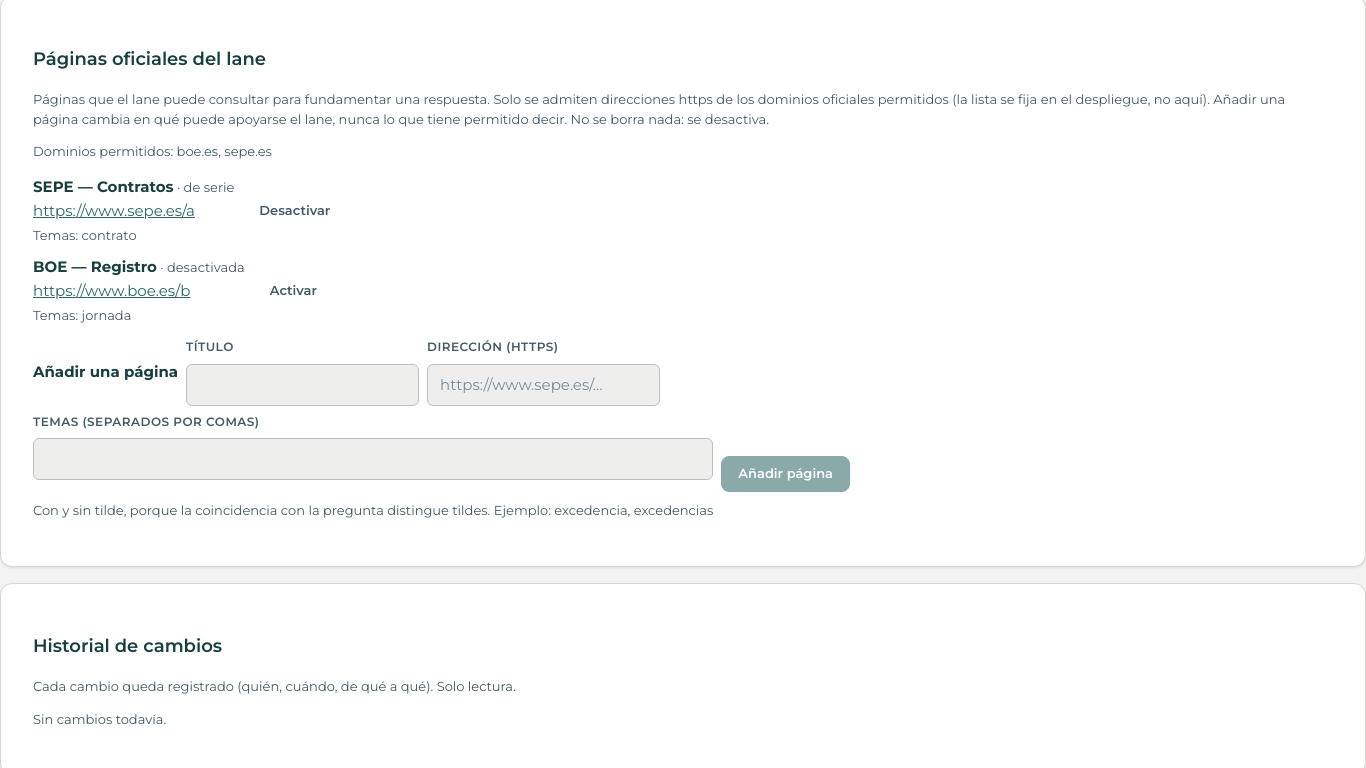
Scenario: Guardarraíles — catalogue card and model-knowledge toggle › shows the server rejection (an off-allowlist host) instead of swallowing it
The width and height of the screenshot is (1366, 768).
(page scrolled)
Expected: the text "SEPE — Contratos" is shown, [33,177,174,196]
In the field labelled "Título": x=303, y=385 [186,364,419,406], type "Otra"
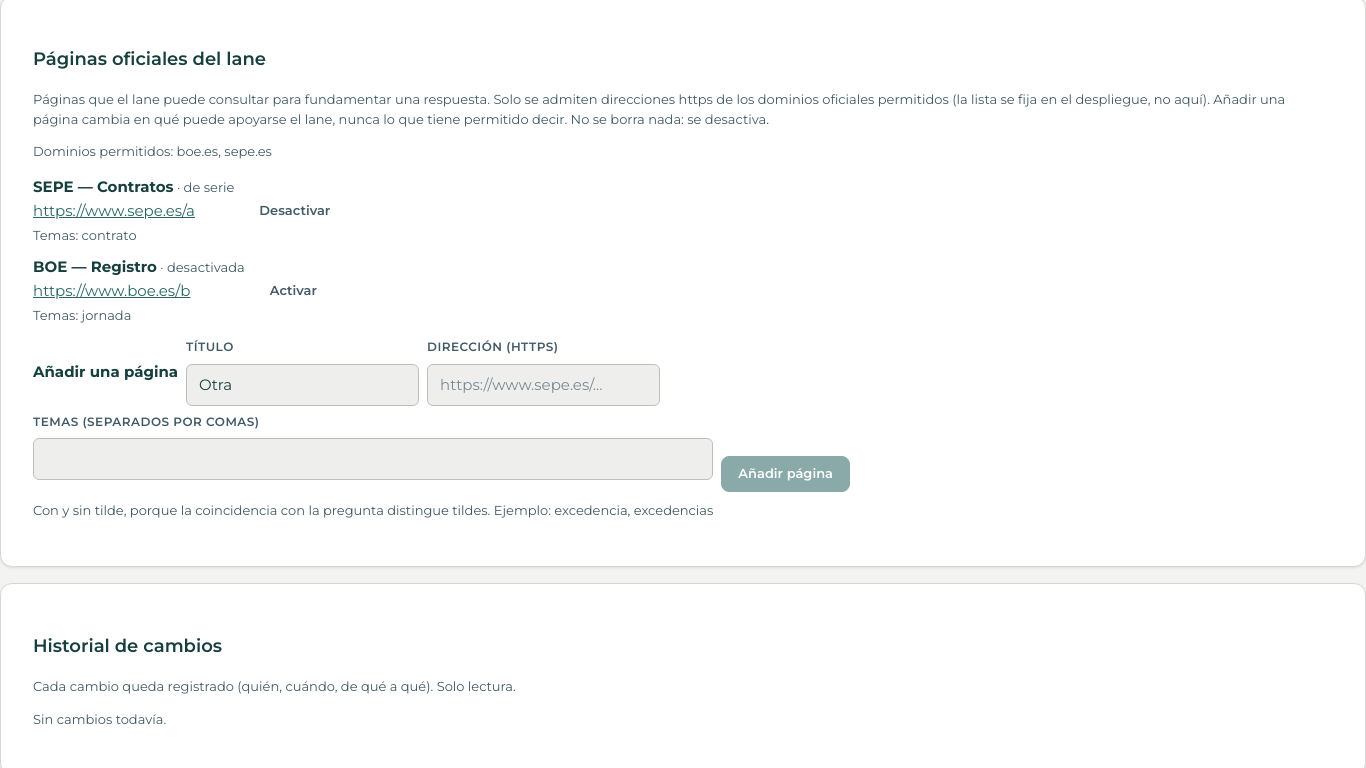
In the field labelled "Dirección (https)": x=544, y=385 [427,364,660,406], type "https://www.example.com/x"
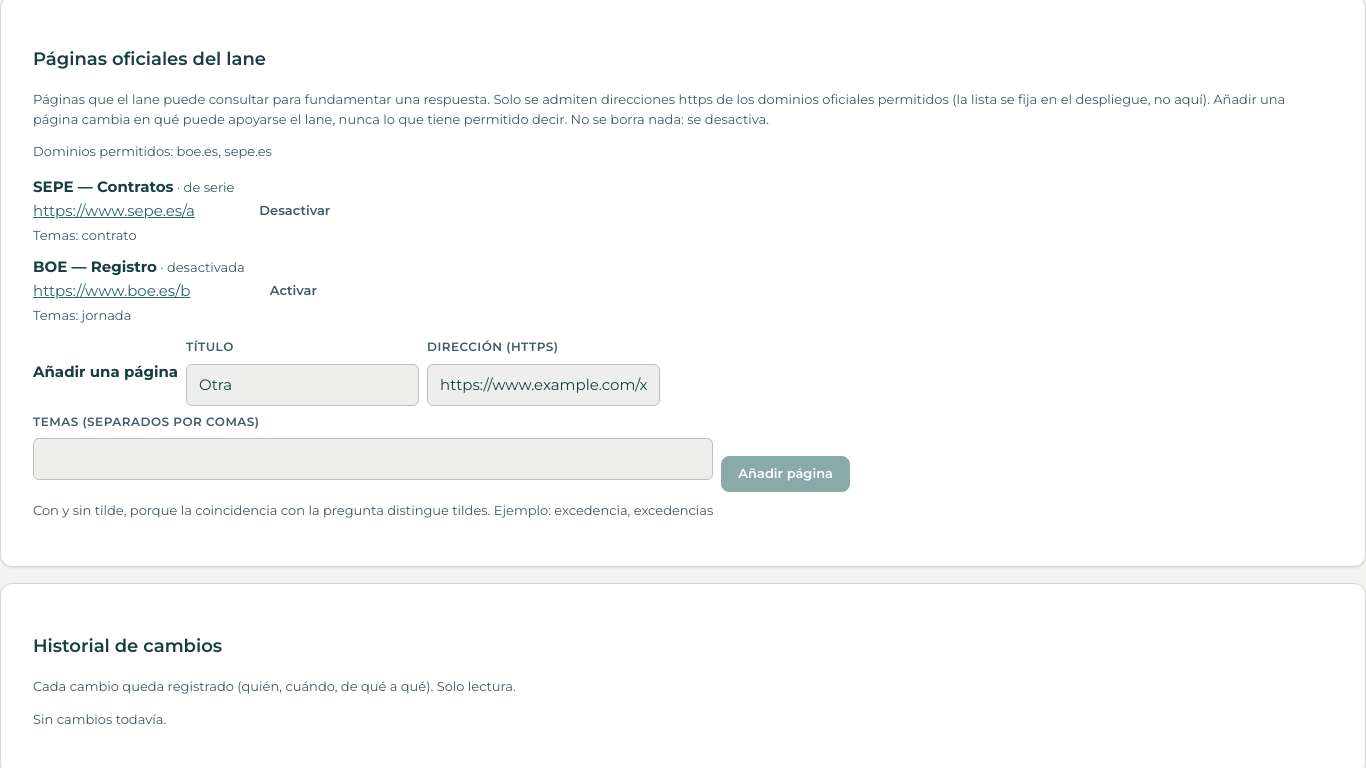
In the field labelled "Temas (separados por comas)": x=373, y=459 [33,438,713,480], type "algo"
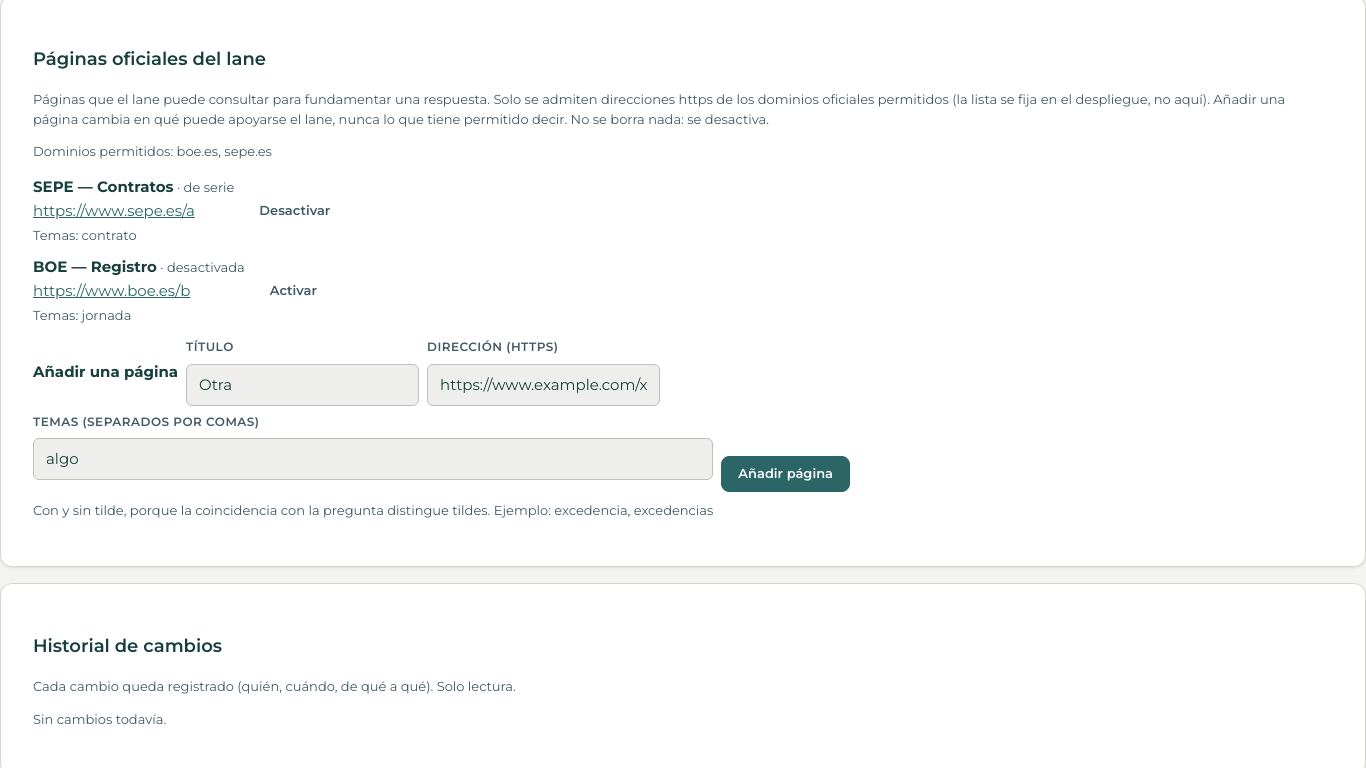
Click the button "Añadir página": x=786, y=474 [721,456,850,492]
(page scrolled)
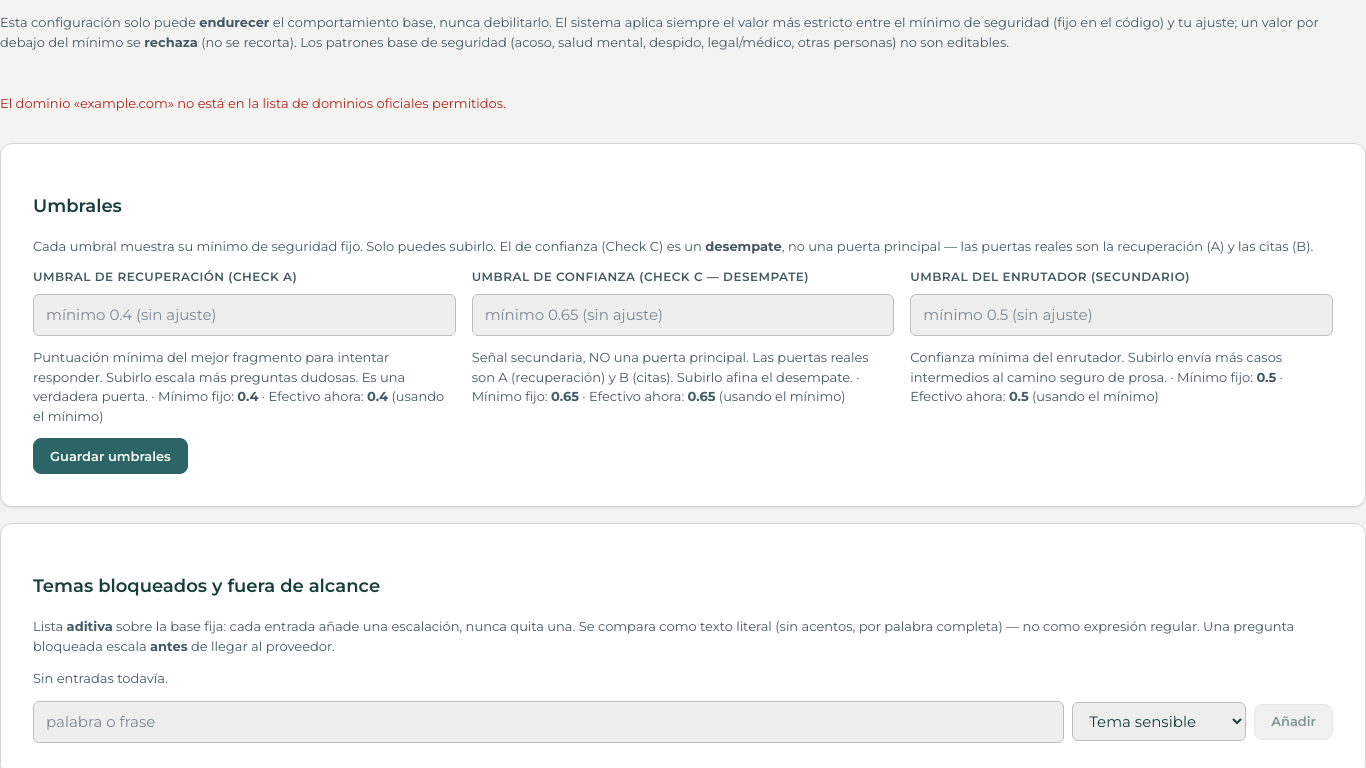
Expected: the text "no está en la lista de dominios oficiales" is shown, [0,95,506,111]
